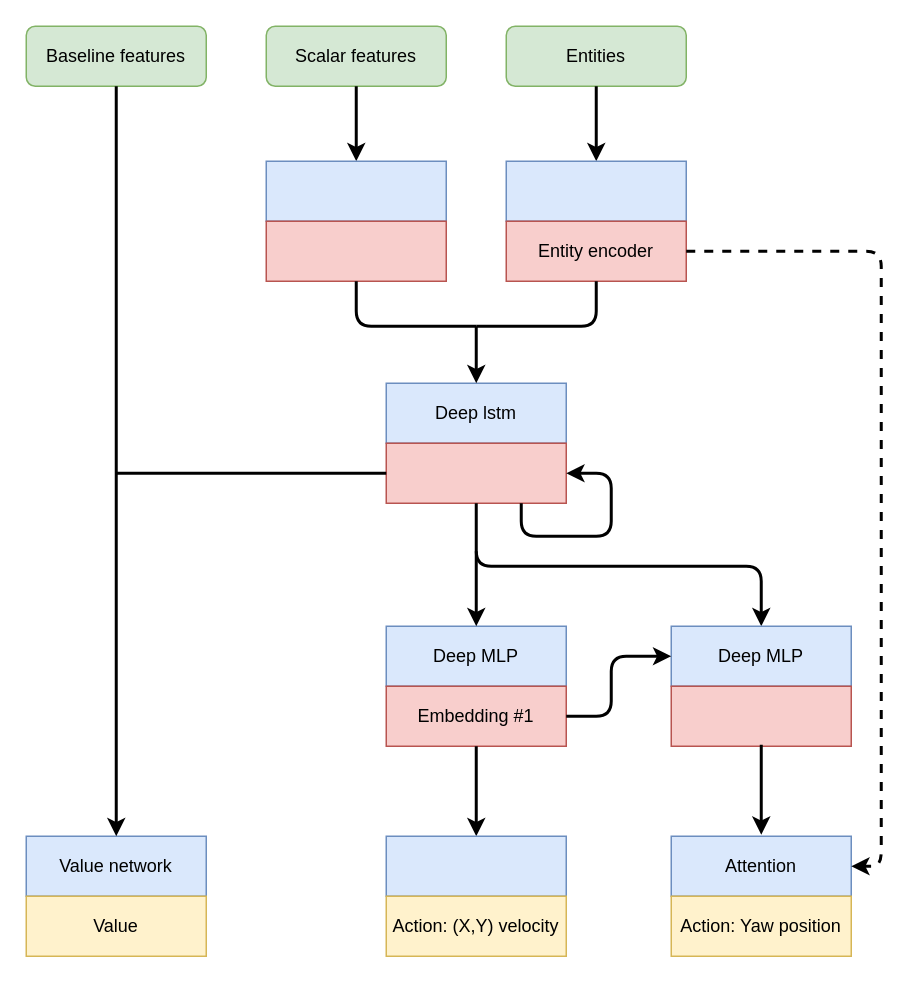
Image size: 921x983. Some labels were removed from this diagram. Here are the shapes that lost their labels. From the top down, the box of each, then its label:
(265, 160, 446, 221): MLP
(505, 160, 686, 221): Transformer
(265, 220, 446, 281): Scalar encoder
(385, 442, 566, 503): Core
(670, 685, 851, 746): Embedding #2
(385, 835, 566, 896): GLU
